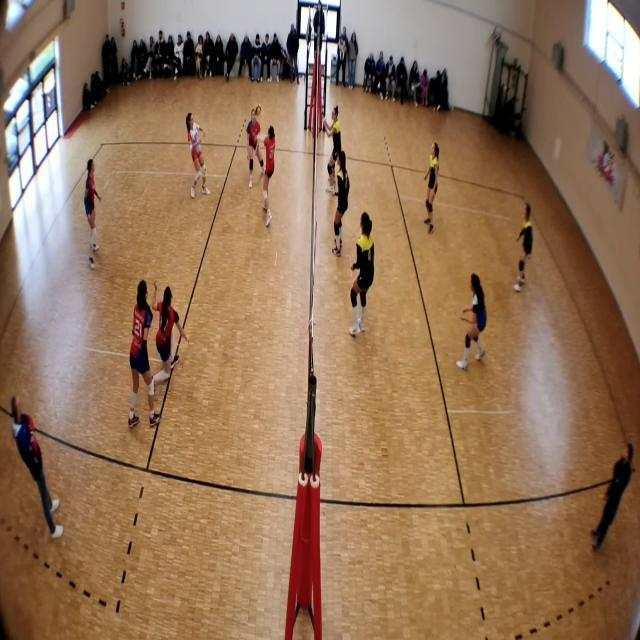volleyball: (255, 104, 263, 115)
